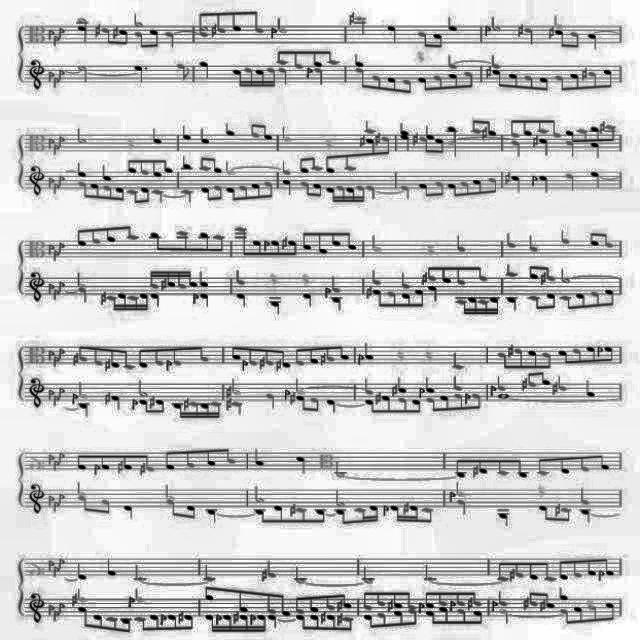Bass-clef: (28, 453, 40, 477), (29, 563, 39, 581)
Bemol: (381, 499, 391, 517), (56, 172, 66, 190), (528, 170, 538, 188), (56, 278, 68, 292), (49, 78, 61, 92), (58, 596, 66, 616), (57, 384, 67, 400), (71, 392, 81, 408), (304, 64, 314, 80), (47, 599, 57, 613), (322, 285, 332, 299), (59, 130, 66, 150), (447, 492, 458, 504), (126, 592, 134, 608), (160, 609, 168, 625), (416, 598, 424, 614), (490, 596, 498, 612), (46, 496, 54, 512), (46, 382, 54, 398), (58, 342, 66, 358), (58, 238, 66, 254), (46, 172, 54, 188), (56, 68, 64, 84), (483, 24, 491, 40), (92, 462, 101, 476), (417, 384, 427, 396), (490, 377, 496, 397), (46, 281, 56, 293), (50, 184, 60, 196), (46, 70, 58, 80), (48, 553, 56, 567), (46, 136, 54, 150), (240, 356, 248, 369), (56, 453, 66, 463), (214, 612, 222, 624), (130, 398, 136, 414), (283, 388, 291, 400), (51, 290, 59, 302), (51, 249, 59, 261), (47, 28, 55, 40), (271, 25, 277, 41), (162, 360, 170, 372), (52, 608, 58, 622), (52, 564, 58, 578), (59, 493, 65, 507), (53, 142, 59, 156), (58, 557, 66, 567), (46, 243, 54, 253), (53, 501, 59, 514), (52, 396, 58, 409), (448, 598, 454, 610), (46, 453, 54, 462), (356, 354, 362, 366), (191, 294, 197, 306), (58, 28, 64, 40), (54, 34, 60, 46), (52, 357, 59, 367), (52, 462, 58, 473), (248, 616, 256, 624), (47, 348, 53, 358), (597, 345, 603, 355), (263, 241, 269, 251), (598, 568, 602, 580), (466, 390, 470, 402)
Eighth-note: (510, 438, 530, 492), (534, 442, 550, 486), (508, 109, 526, 143), (298, 176, 316, 202), (596, 449, 612, 478), (442, 70, 458, 98), (246, 118, 262, 146), (106, 339, 118, 376), (494, 449, 506, 486), (162, 448, 176, 479), (328, 508, 348, 528), (175, 230, 189, 258), (450, 458, 466, 482), (568, 28, 584, 52), (578, 446, 590, 478), (180, 451, 197, 473), (100, 494, 114, 520), (252, 10, 264, 40), (140, 180, 152, 210), (70, 450, 86, 472), (202, 449, 218, 471), (582, 342, 594, 371), (541, 560, 555, 584), (136, 344, 148, 372), (296, 387, 308, 415), (282, 348, 294, 374), (400, 75, 412, 101), (316, 230, 328, 256), (77, 178, 89, 204), (605, 229, 619, 251), (174, 64, 188, 85), (234, 592, 246, 616), (571, 561, 583, 585), (292, 346, 304, 370), (470, 176, 482, 200), (418, 72, 430, 96), (416, 286, 424, 322), (454, 266, 466, 290), (575, 290, 587, 314), (112, 184, 124, 208), (122, 156, 134, 180), (382, 74, 398, 92), (231, 10, 241, 38), (431, 72, 441, 100), (558, 22, 568, 50), (603, 118, 613, 146), (606, 596, 616, 624), (329, 42, 339, 70), (359, 68, 369, 96), (88, 182, 100, 205), (239, 224, 247, 258), (408, 604, 420, 626), (490, 562, 502, 584), (536, 501, 548, 523), (462, 68, 474, 90), (457, 606, 468, 630), (163, 492, 174, 516), (105, 224, 116, 248), (371, 72, 382, 96), (232, 337, 242, 363), (171, 345, 181, 371), (120, 24, 130, 50), (200, 229, 210, 255), (218, 10, 226, 42), (586, 233, 598, 254), (196, 152, 207, 174), (135, 616, 147, 636), (425, 589, 435, 613), (422, 22, 434, 42), (527, 564, 539, 584), (256, 497, 264, 527), (270, 506, 282, 526), (486, 172, 498, 192), (80, 601, 88, 631), (424, 610, 436, 630), (586, 604, 598, 624), (312, 506, 324, 526), (558, 454, 570, 474), (388, 289, 398, 313), (589, 290, 599, 314), (607, 283, 615, 313), (149, 232, 161, 252), (198, 186, 210, 206), (211, 154, 221, 178), (261, 180, 271, 204), (276, 48, 288, 68), (201, 339, 209, 368), (544, 346, 552, 374), (140, 394, 148, 422), (226, 444, 234, 472), (312, 390, 320, 418), (250, 180, 258, 208), (557, 559, 567, 581), (363, 610, 373, 632), (547, 265, 557, 287), (161, 159, 171, 181), (374, 590, 386, 608), (498, 348, 507, 372), (509, 70, 518, 94), (558, 608, 570, 626), (373, 289, 382, 313), (332, 228, 341, 252), (458, 180, 467, 204), (134, 31, 146, 49), (604, 64, 614, 85), (265, 121, 275, 142), (516, 345, 524, 371), (528, 341, 536, 367), (102, 453, 110, 479), (478, 458, 486, 484), (446, 176, 454, 202), (492, 65, 500, 91), (574, 604, 582, 630), (398, 392, 406, 418), (76, 228, 84, 254), (149, 159, 157, 185), (165, 612, 175, 632), (391, 594, 401, 614), (80, 344, 90, 364), (265, 594, 275, 614), (278, 596, 288, 616), (512, 564, 522, 584), (343, 613, 353, 633), (76, 493, 86, 513), (473, 394, 483, 414), (127, 184, 137, 204), (137, 158, 147, 178), (215, 182, 225, 202), (226, 185, 237, 203), (356, 502, 364, 526), (556, 72, 564, 96), (568, 70, 576, 94), (374, 612, 386, 628), (150, 353, 162, 369), (474, 270, 486, 286), (546, 292, 554, 316), (562, 294, 570, 318), (128, 224, 136, 248), (308, 156, 316, 180), (434, 178, 442, 202), (150, 27, 158, 51), (291, 48, 299, 72), (588, 72, 598, 91), (252, 237, 260, 260), (270, 235, 278, 258), (418, 175, 426, 198), (203, 586, 213, 604), (586, 563, 596, 581), (428, 397, 438, 415), (294, 599, 304, 617), (441, 267, 451, 285), (342, 343, 350, 365), (436, 26, 444, 48), (541, 372, 549, 394), (124, 452, 132, 474), (366, 134, 374, 156), (486, 120, 494, 142), (474, 609, 482, 631), (424, 506, 432, 528), (606, 343, 614, 365), (340, 153, 348, 175), (348, 226, 354, 254), (241, 180, 247, 207), (150, 614, 158, 634), (184, 612, 192, 632), (406, 590, 414, 610), (413, 397, 421, 417), (440, 395, 448, 415), (560, 346, 568, 366), (216, 236, 224, 256), (298, 614, 308, 630), (528, 590, 536, 610), (529, 262, 537, 282), (523, 118, 531, 138), (580, 122, 588, 142), (606, 562, 614, 582), (366, 400, 374, 420), (382, 396, 390, 416), (532, 293, 540, 313), (302, 234, 310, 254), (102, 184, 110, 204), (298, 157, 306, 177), (314, 181, 322, 201), (432, 136, 440, 156), (308, 345, 314, 371), (90, 226, 96, 252), (95, 347, 102, 369), (323, 160, 332, 177), (362, 594, 370, 612), (266, 348, 272, 372), (202, 10, 208, 34), (308, 595, 316, 613), (126, 355, 134, 373), (156, 399, 164, 417), (383, 132, 389, 156), (553, 116, 559, 140), (120, 617, 128, 635), (538, 117, 546, 135), (314, 50, 322, 68), (248, 346, 254, 369), (311, 610, 317, 632), (403, 292, 409, 314), (436, 592, 444, 608), (474, 590, 482, 606), (456, 394, 464, 410), (469, 120, 477, 136), (94, 614, 102, 630), (108, 616, 116, 632), (546, 596, 554, 612), (441, 608, 447, 628), (422, 136, 428, 156), (342, 597, 350, 611), (566, 128, 574, 142), (561, 508, 569, 522), (106, 27, 112, 45), (299, 507, 305, 525), (428, 268, 434, 286), (328, 344, 332, 368), (541, 78, 547, 94), (393, 612, 399, 628), (191, 504, 197, 520), (147, 460, 153, 476), (574, 346, 578, 368), (290, 237, 294, 259), (526, 74, 532, 88), (456, 595, 464, 605), (328, 590, 332, 610), (593, 122, 597, 142), (330, 612, 334, 630), (532, 373, 536, 391), (576, 562, 580, 564)
Half-note: (329, 458, 347, 484), (420, 568, 442, 588), (291, 558, 305, 588), (354, 568, 374, 588), (246, 486, 264, 504), (77, 58, 87, 86), (492, 10, 502, 36), (560, 265, 572, 283), (331, 490, 345, 504), (372, 235, 380, 258), (295, 380, 305, 396), (78, 129, 86, 149), (283, 124, 289, 148), (130, 14, 142, 26), (234, 384, 242, 396)
Quarter-note: (523, 230, 545, 256), (446, 232, 466, 260), (557, 226, 579, 250), (586, 165, 598, 199), (575, 505, 593, 527), (494, 509, 511, 531), (557, 172, 575, 192), (586, 376, 602, 398), (196, 57, 212, 79), (280, 172, 292, 200), (386, 26, 402, 46), (444, 20, 460, 40), (447, 125, 457, 157), (366, 179, 378, 205), (293, 452, 307, 474), (502, 230, 514, 254), (233, 292, 250, 308), (268, 561, 280, 583), (348, 54, 364, 70), (576, 488, 592, 504), (506, 290, 518, 310), (195, 126, 205, 150), (78, 560, 90, 580), (120, 502, 132, 522), (222, 118, 232, 142), (451, 354, 465, 371), (395, 122, 409, 138), (396, 182, 410, 198), (269, 294, 279, 316), (397, 133, 409, 151), (276, 68, 288, 86), (592, 141, 604, 159), (264, 387, 274, 408), (538, 176, 548, 197), (95, 166, 108, 182), (103, 560, 113, 580), (149, 292, 159, 312), (539, 142, 549, 162), (564, 140, 574, 160), (511, 173, 522, 191), (234, 272, 248, 286), (74, 162, 86, 178), (148, 128, 160, 144), (312, 68, 324, 84), (164, 25, 172, 49), (366, 341, 374, 364), (325, 399, 335, 417), (180, 155, 190, 173), (201, 291, 211, 309), (181, 124, 191, 142), (181, 188, 191, 205), (558, 379, 568, 396), (395, 276, 409, 288), (280, 159, 292, 173), (134, 568, 146, 582), (456, 497, 468, 511), (304, 288, 312, 308), (498, 592, 506, 612), (80, 284, 88, 304), (511, 141, 519, 161), (525, 28, 535, 44), (208, 505, 216, 525), (252, 452, 262, 468), (234, 396, 242, 416), (589, 30, 597, 50), (204, 564, 212, 582), (452, 380, 464, 392), (332, 278, 341, 294), (134, 66, 142, 84), (507, 265, 517, 279), (363, 120, 373, 134), (445, 55, 455, 69), (399, 371, 405, 394), (152, 190, 160, 207), (429, 286, 437, 302), (331, 298, 341, 310), (114, 393, 120, 411), (363, 382, 372, 394), (270, 614, 278, 626), (500, 380, 508, 392), (80, 402, 86, 418), (201, 275, 207, 289), (489, 58, 499, 66), (562, 589, 566, 607), (373, 274, 379, 286), (428, 382, 432, 394)
Sixteenth-note: (448, 298, 468, 318), (388, 502, 400, 530), (325, 186, 335, 218), (230, 68, 242, 94), (371, 497, 381, 527), (474, 297, 486, 321), (176, 267, 186, 295), (114, 292, 126, 314), (104, 293, 114, 319), (265, 61, 273, 90), (353, 185, 363, 208), (166, 264, 174, 292), (254, 64, 262, 92), (489, 296, 499, 318), (335, 183, 343, 210), (410, 504, 418, 530), (244, 66, 252, 92), (469, 294, 476, 322), (203, 613, 213, 631), (222, 610, 230, 632), (200, 400, 208, 422), (210, 401, 218, 422), (237, 616, 245, 636), (128, 294, 136, 314), (188, 272, 196, 292), (170, 406, 182, 419), (346, 186, 354, 204), (149, 274, 159, 286), (258, 614, 264, 634), (192, 400, 198, 420), (140, 296, 144, 312)
Treble-clef: (26, 485, 44, 521), (28, 587, 44, 625), (25, 164, 43, 196), (24, 279, 44, 305), (28, 378, 42, 414), (28, 59, 40, 92)
